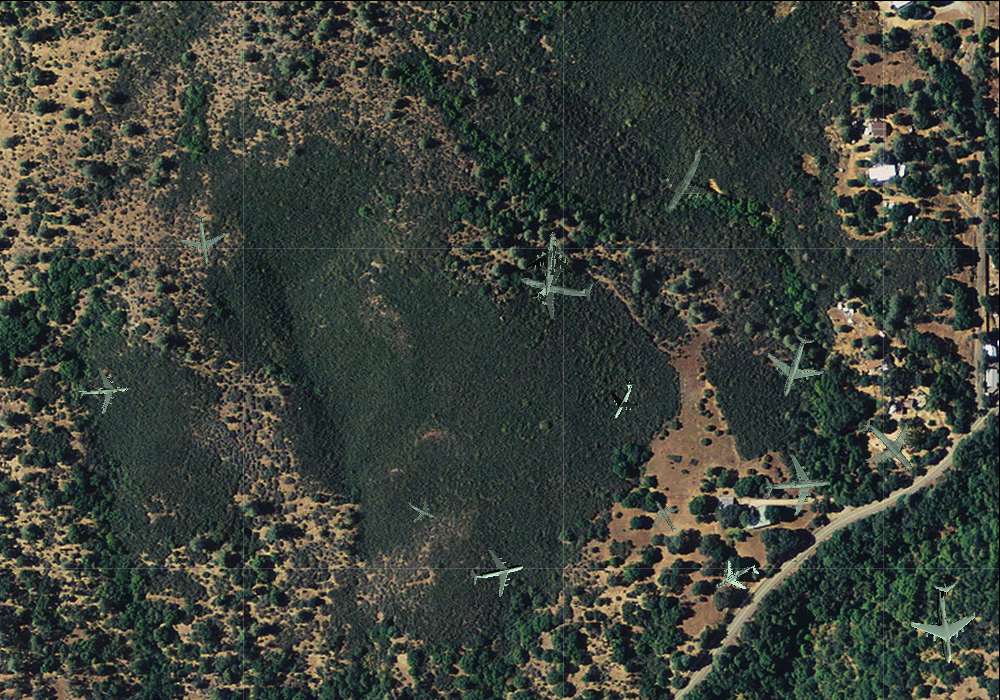plane: (637, 131, 731, 227), (841, 400, 933, 493), (903, 578, 989, 668), (512, 243, 601, 328), (756, 326, 834, 406), (513, 228, 580, 304), (762, 452, 832, 518), (465, 541, 529, 603), (706, 549, 766, 607), (176, 212, 229, 267), (596, 372, 649, 426), (75, 364, 130, 416), (640, 491, 689, 541), (400, 490, 441, 530)
